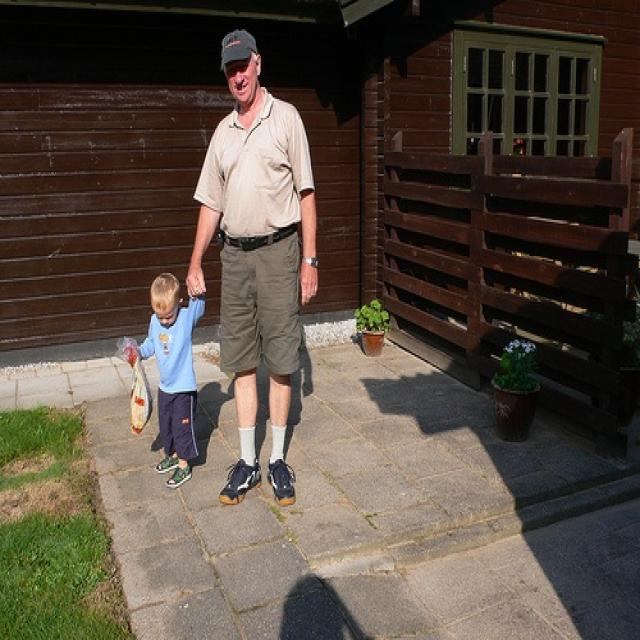pottedplant: (489, 334, 548, 446), (348, 293, 392, 362)
